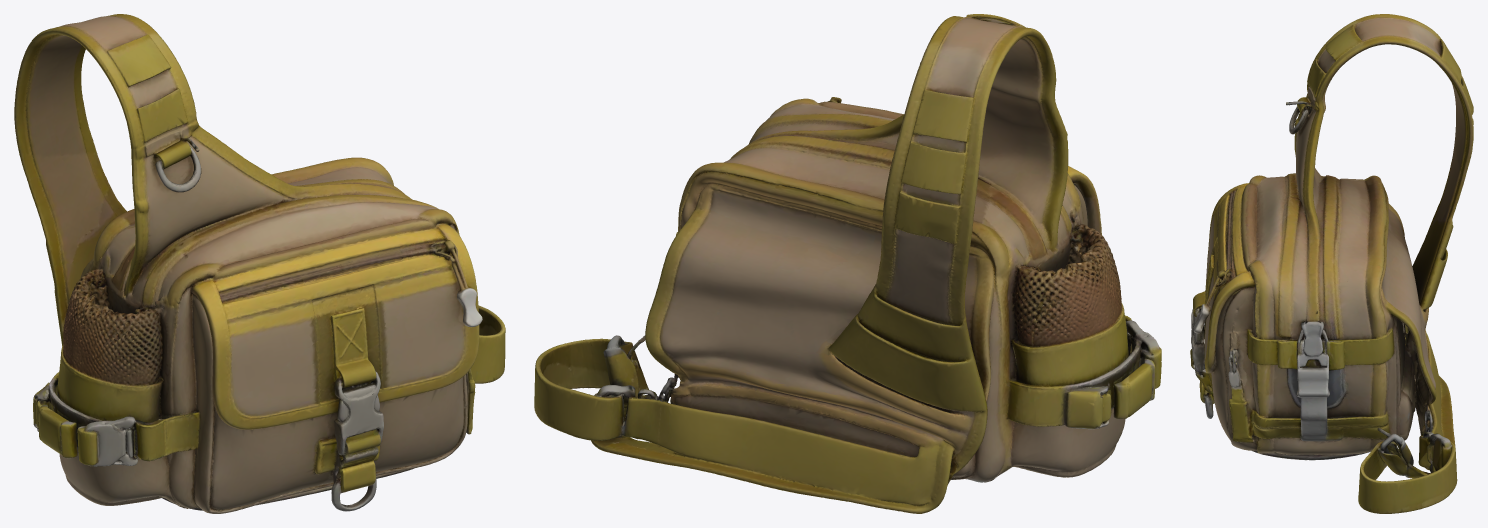
The model's file is grab_bag.glb.
The picture shows the model from 3 angles, left to right: view 1: azimuth 30°, elevation 25°; view 2: azimuth 150°, elevation 25°; view 3: azimuth 270°, elevation 25°; orthographic projection. The views are drawn at different scales.
Size of the model in its own units: 1.9 by 1.57 by 1.19.
Materials: 1 (1 with a texture image).
